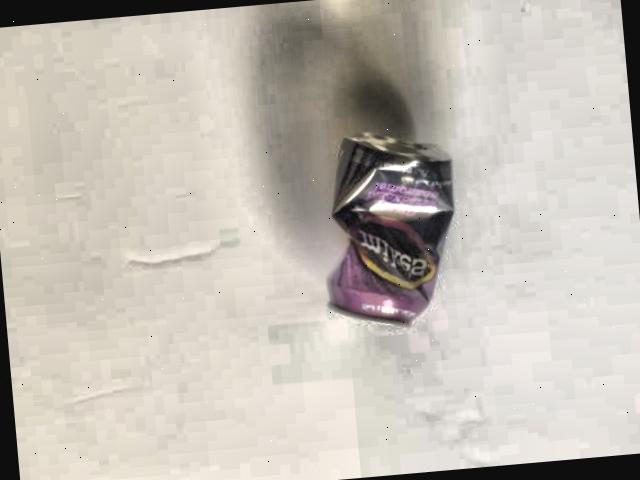Bottles: (298, 107, 462, 340)
